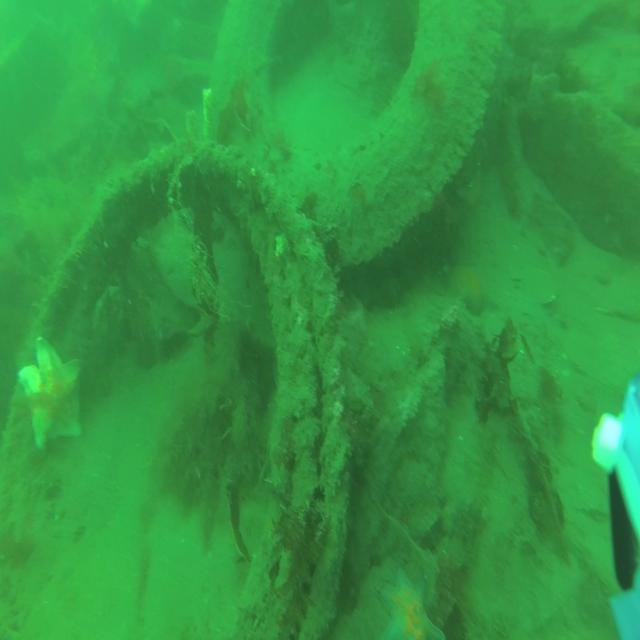starfish: (17, 340, 82, 445), (376, 567, 446, 640), (445, 264, 500, 316)
